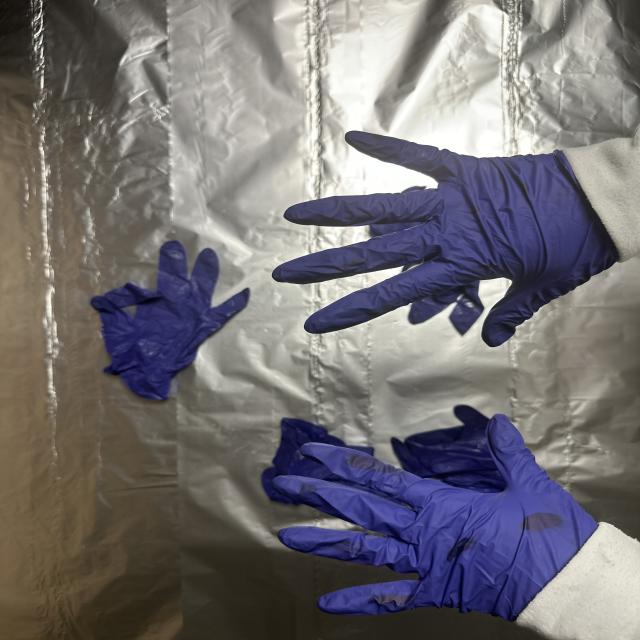gloves_contaminated: (272, 132, 618, 346), (274, 414, 597, 620)
